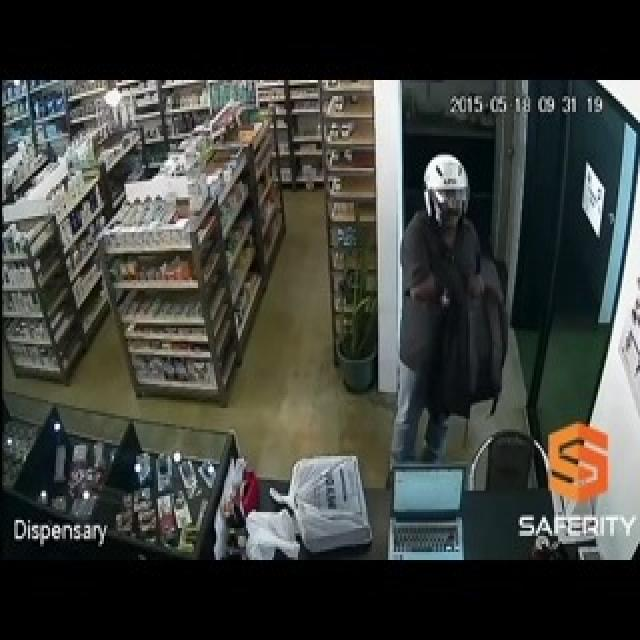thief: (397, 148, 501, 466)
